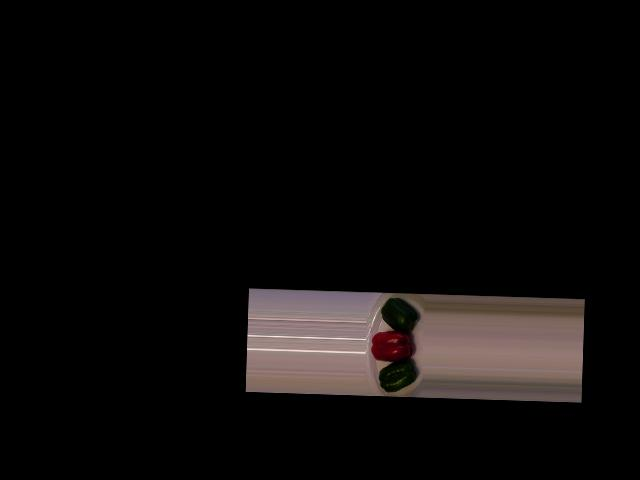bell_pepper: (376, 295, 422, 333)
